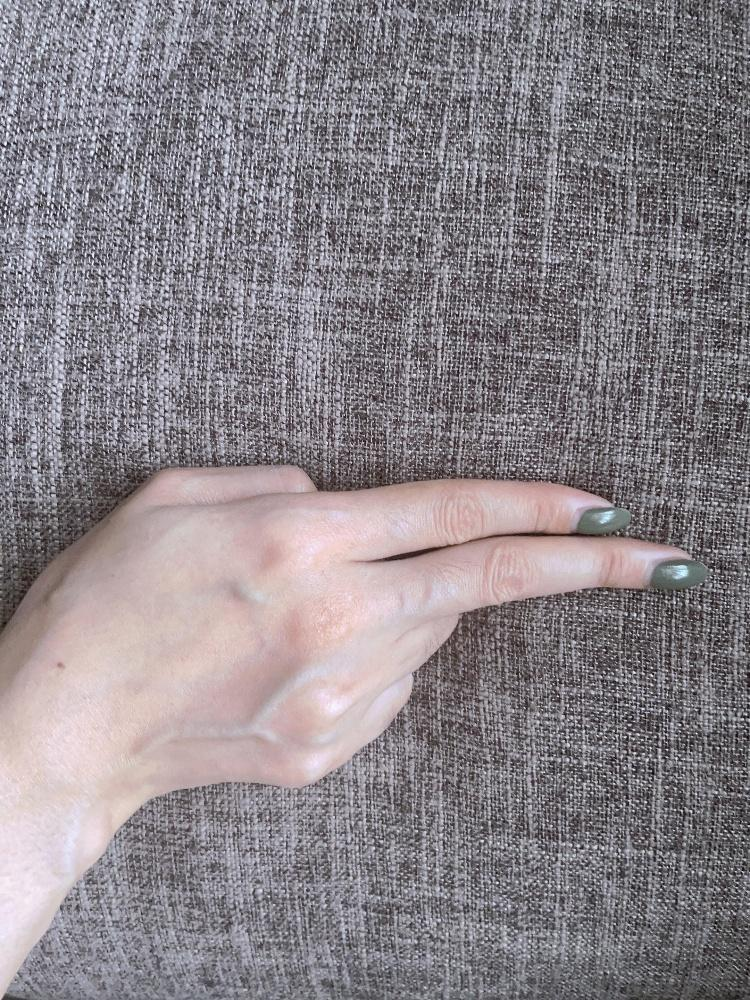h: (46, 456, 704, 788)
